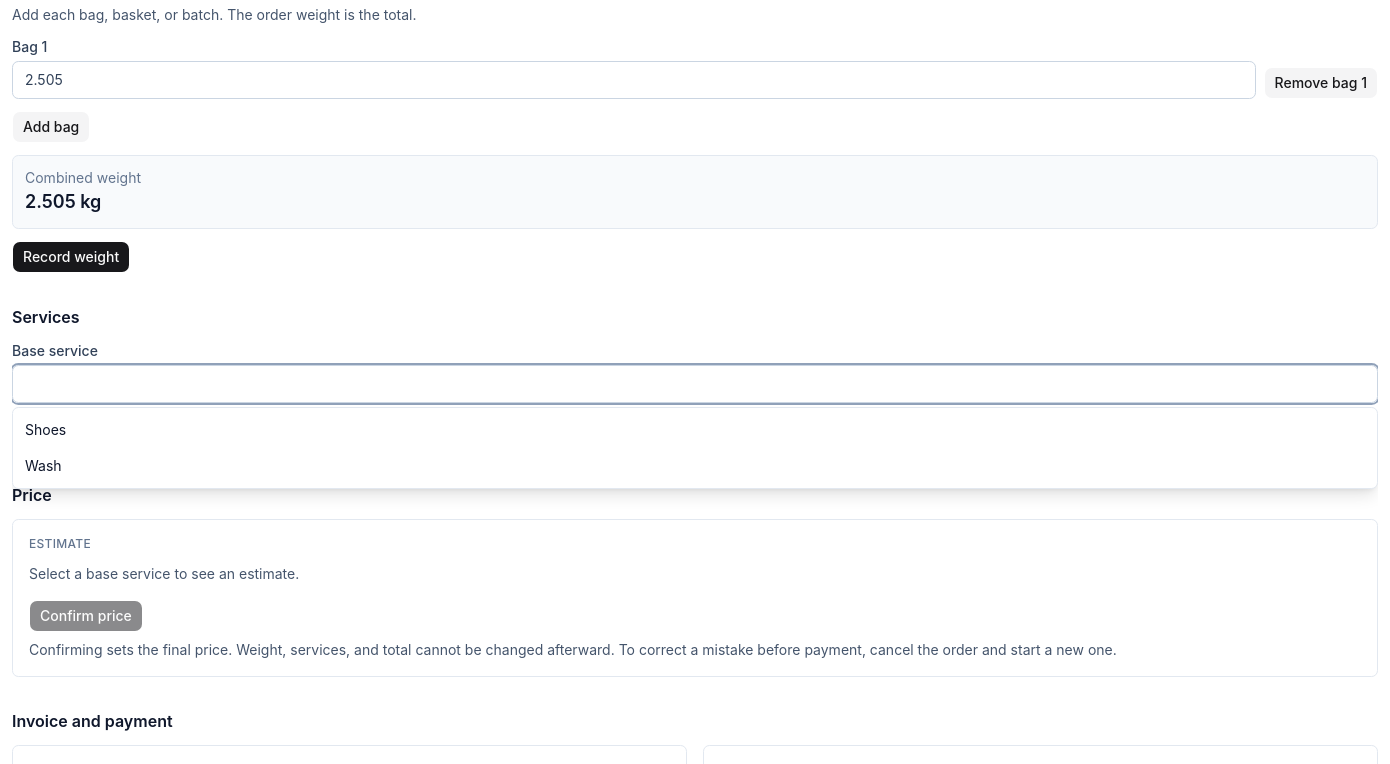
Test: order page price review (#162) › case 9: after a failure, the refetched status replaces the estimate
(page scrolled)
Click the option "Wash" at (43, 466), box [25,457,62,474]
Wait 900 ms
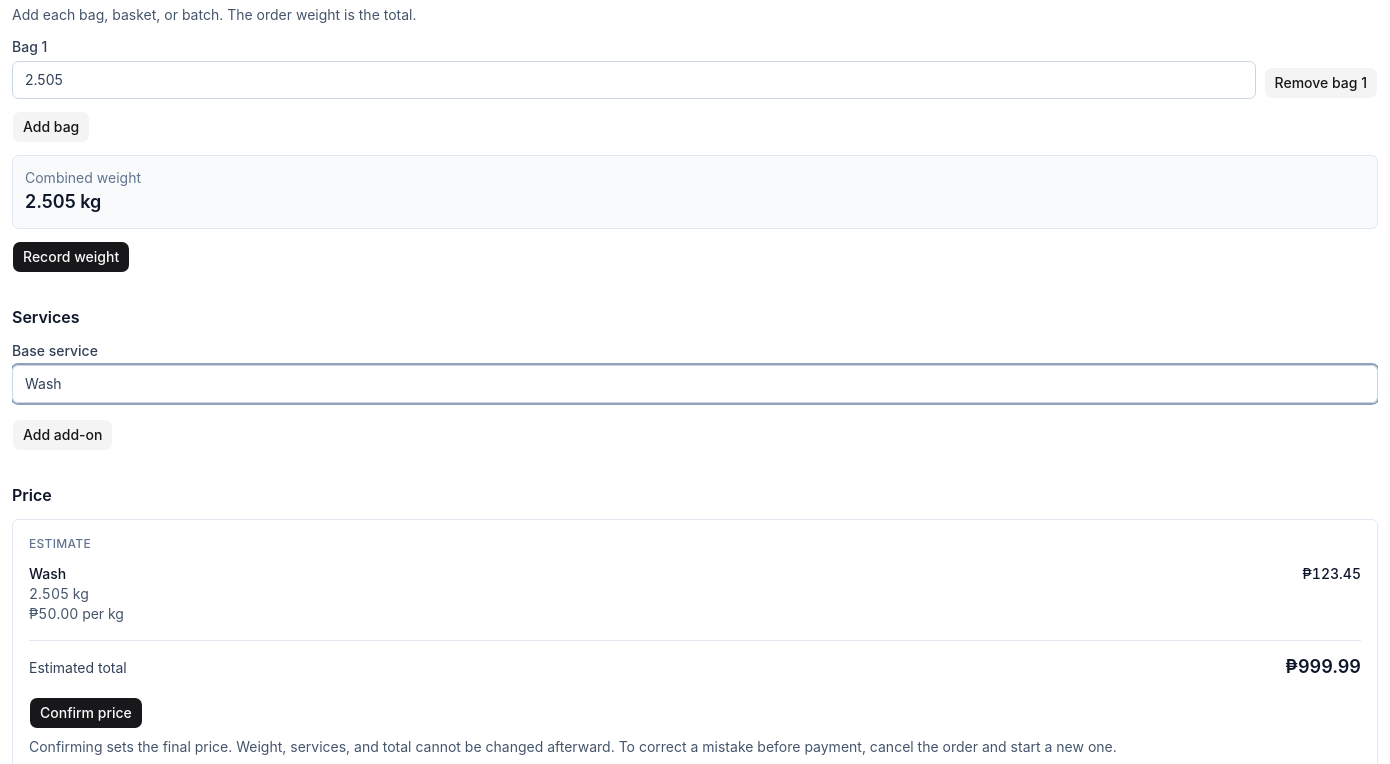
Check: the button "Confirm price" is enabled
Click the button "Confirm price" at (86, 713), box [29,697,143,729]
(page scrolled)
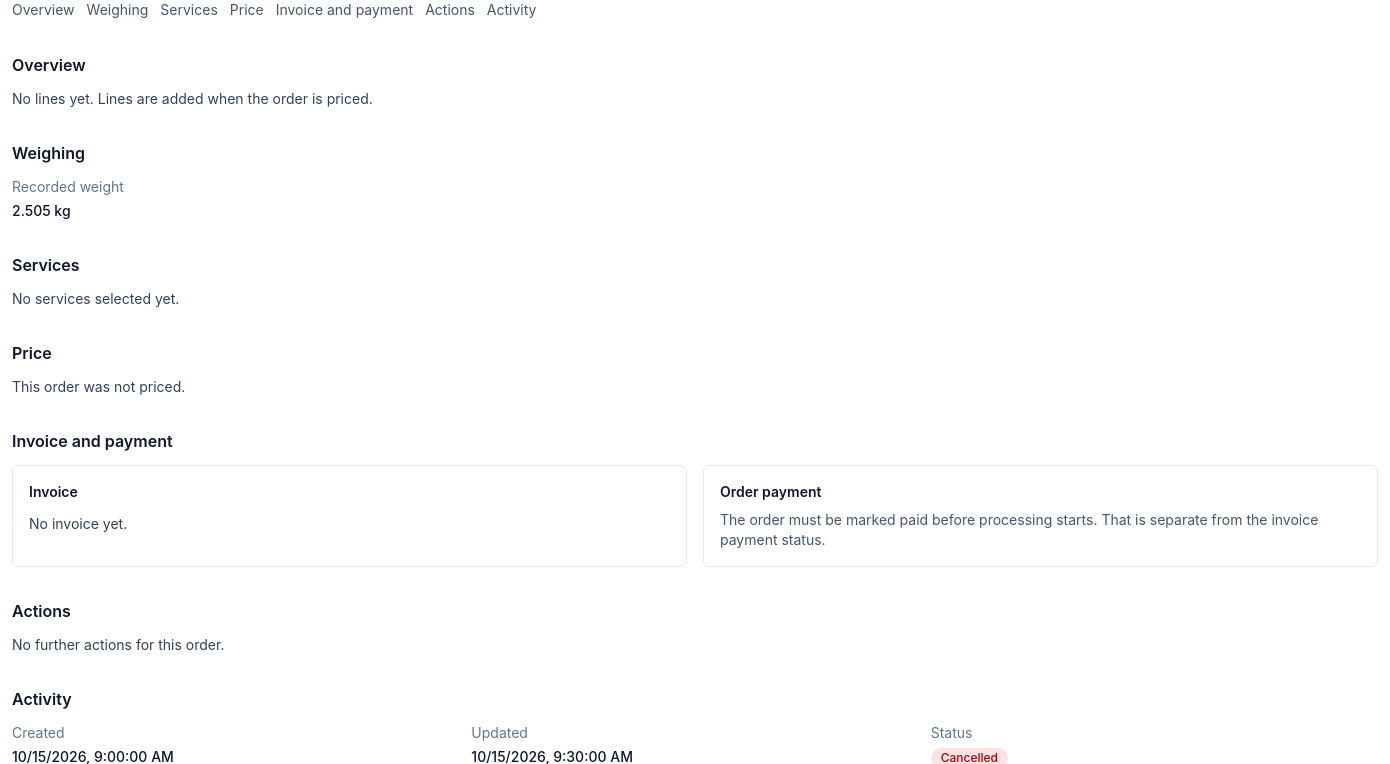
Check: the element with id "laundry-order-price" is shown, box [12,343,185,395]
Check: the element with id "laundry-order-price" shows "This order was not priced.", box [12,378,185,395]
Check: the button "Remove bag 1" is gone
